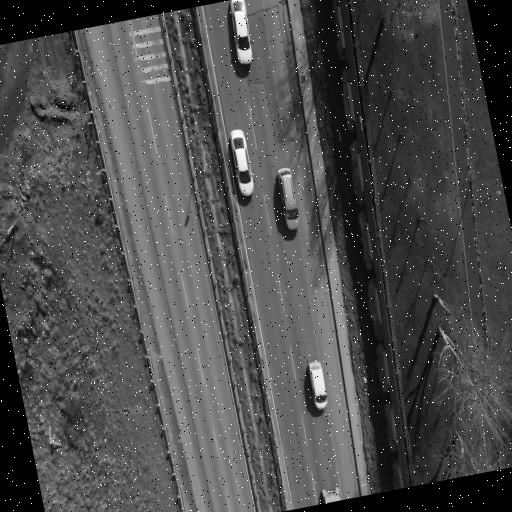UAI: (322, 487, 342, 502)
person: (230, 129, 253, 195), (230, 0, 252, 63), (278, 167, 299, 229), (309, 360, 327, 408)
